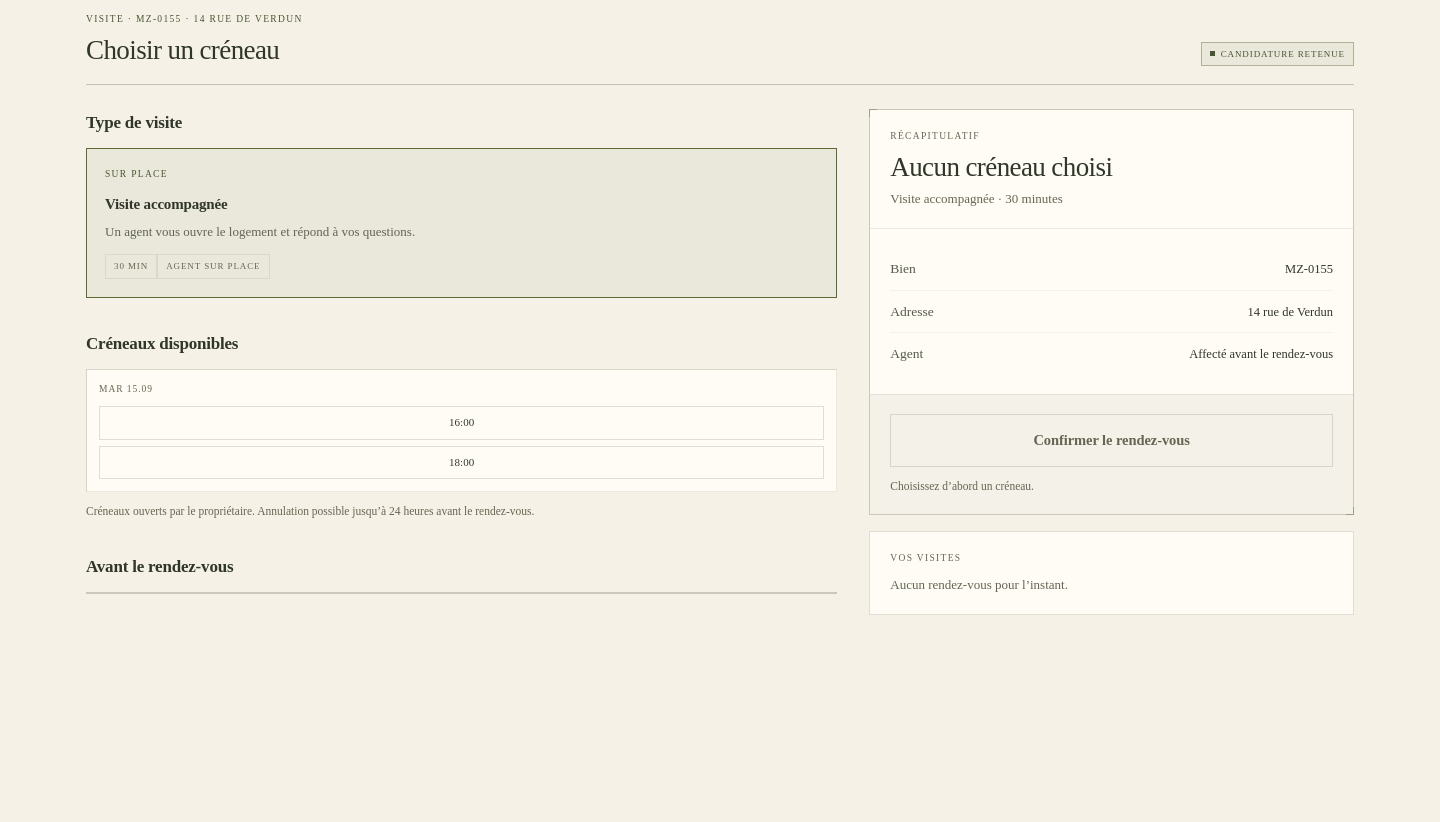
Test: VisitBookingScreen › affiche l’échec sans faire croire au rendez-vous
Click the button "16:00". click: (462, 423)
box: [99, 406, 824, 440]
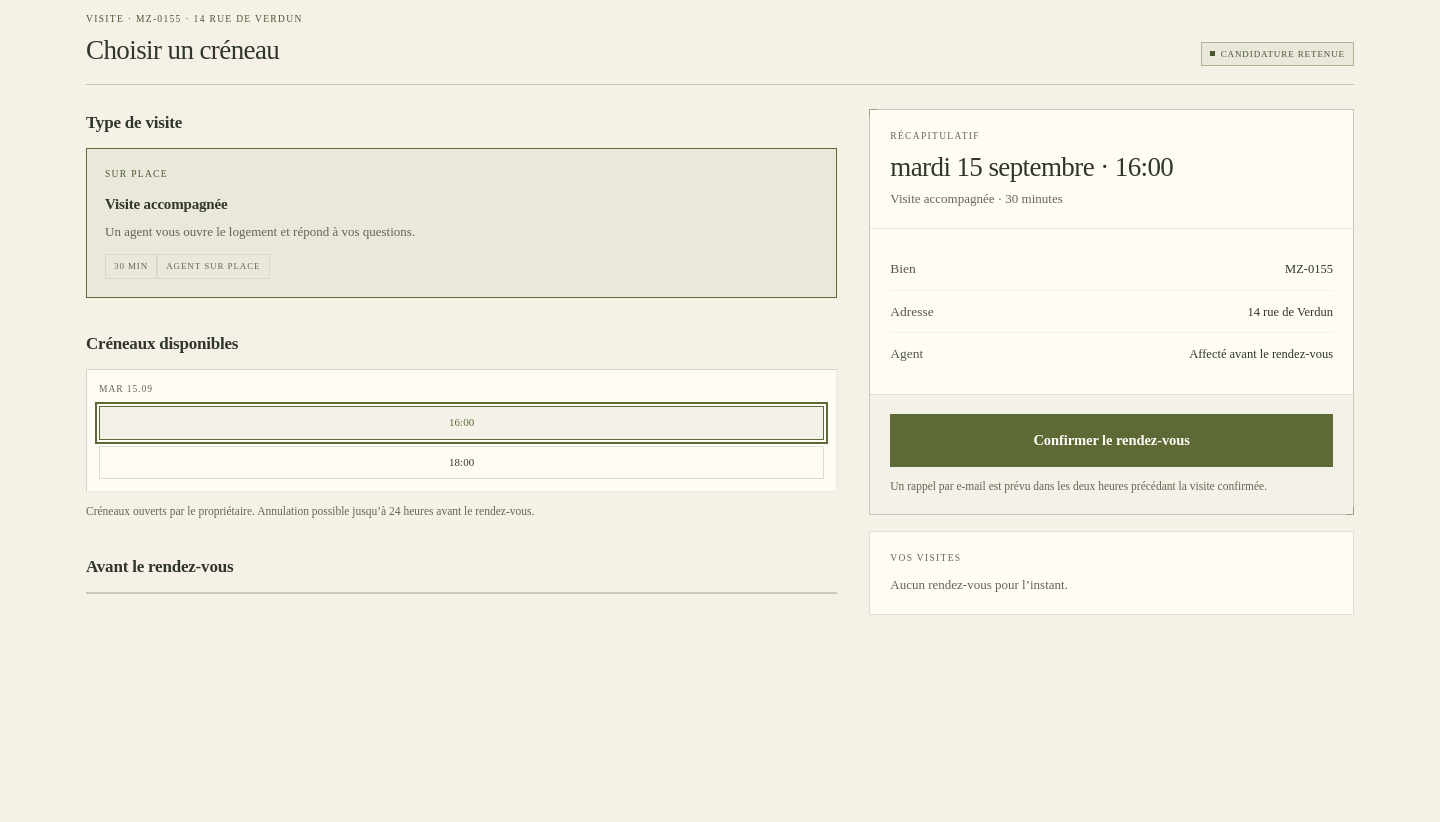
Click the button "Confirmer le rendez-vous". click: (1112, 440)
box: [890, 414, 1333, 467]
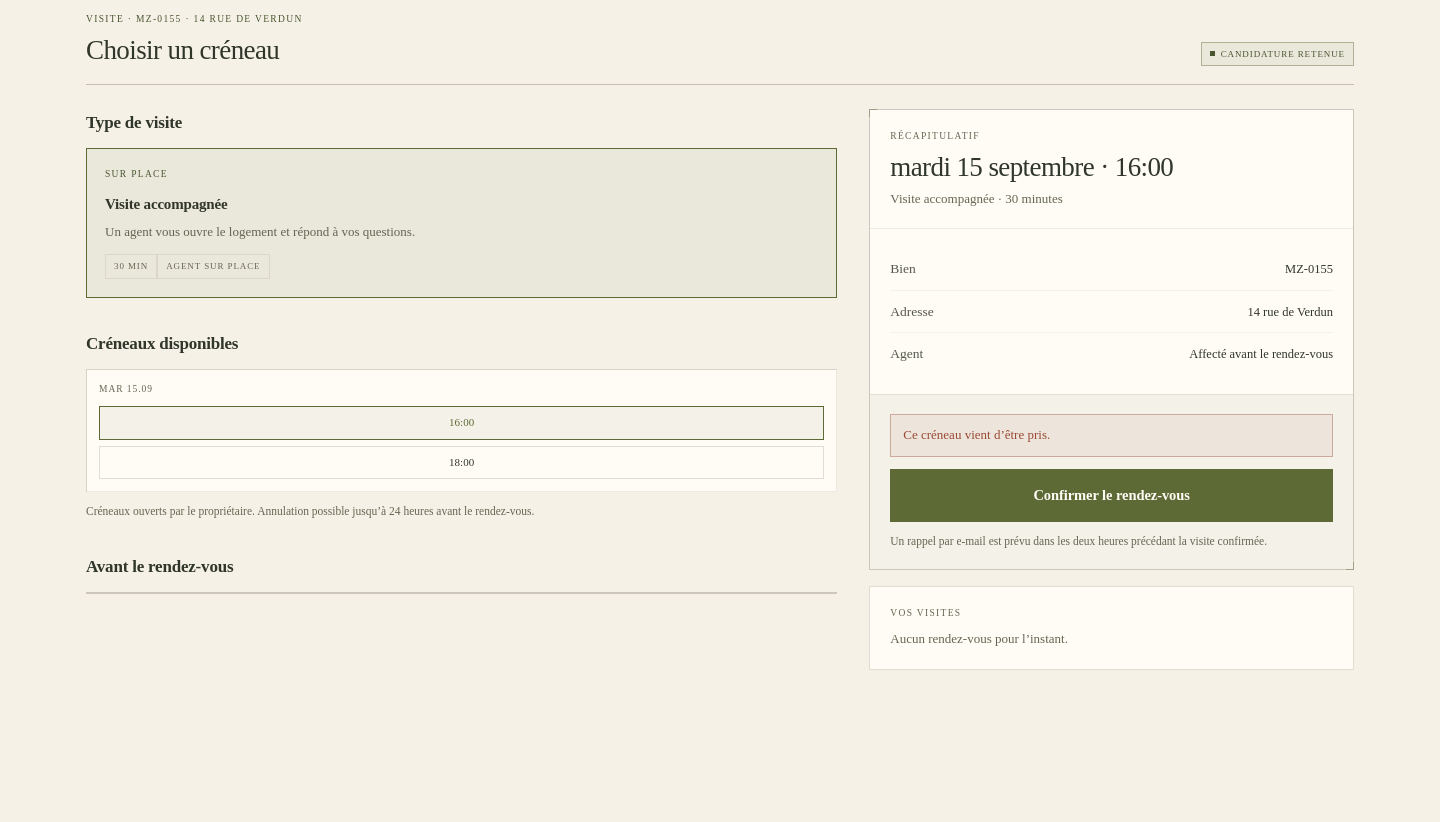
Now the message reads "Ce créneau vient d’être pris.", box [903, 427, 1050, 442]
